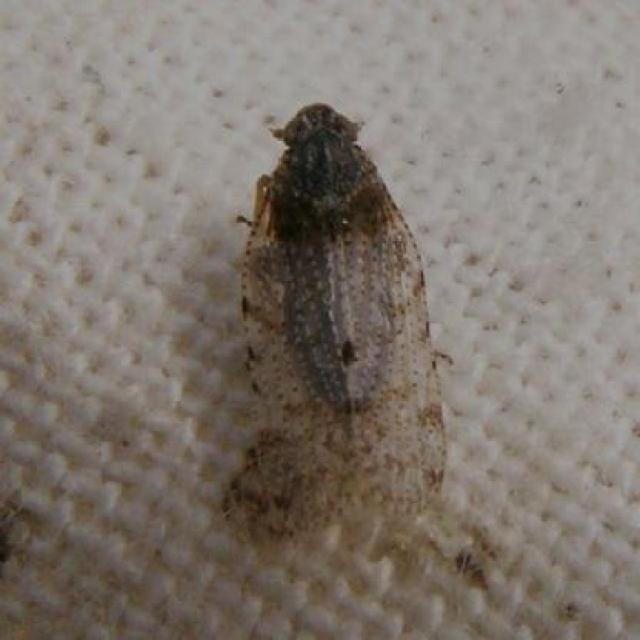brown-planthopper: (239, 94, 450, 532)
